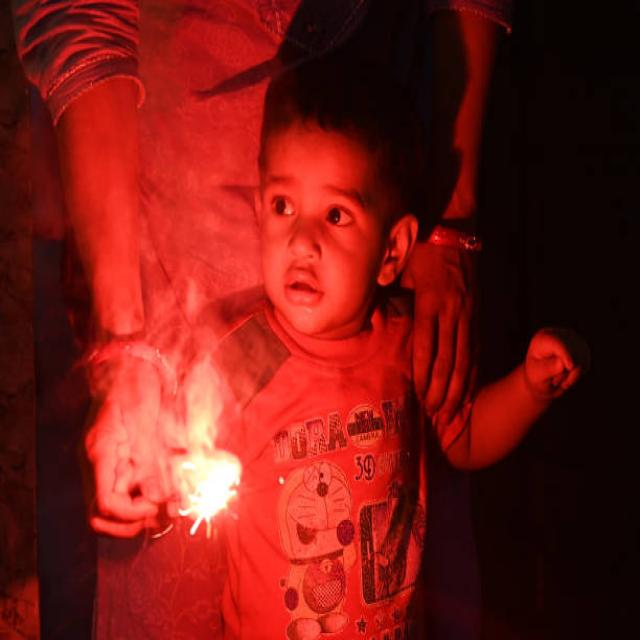fire: (178, 451, 243, 540)
